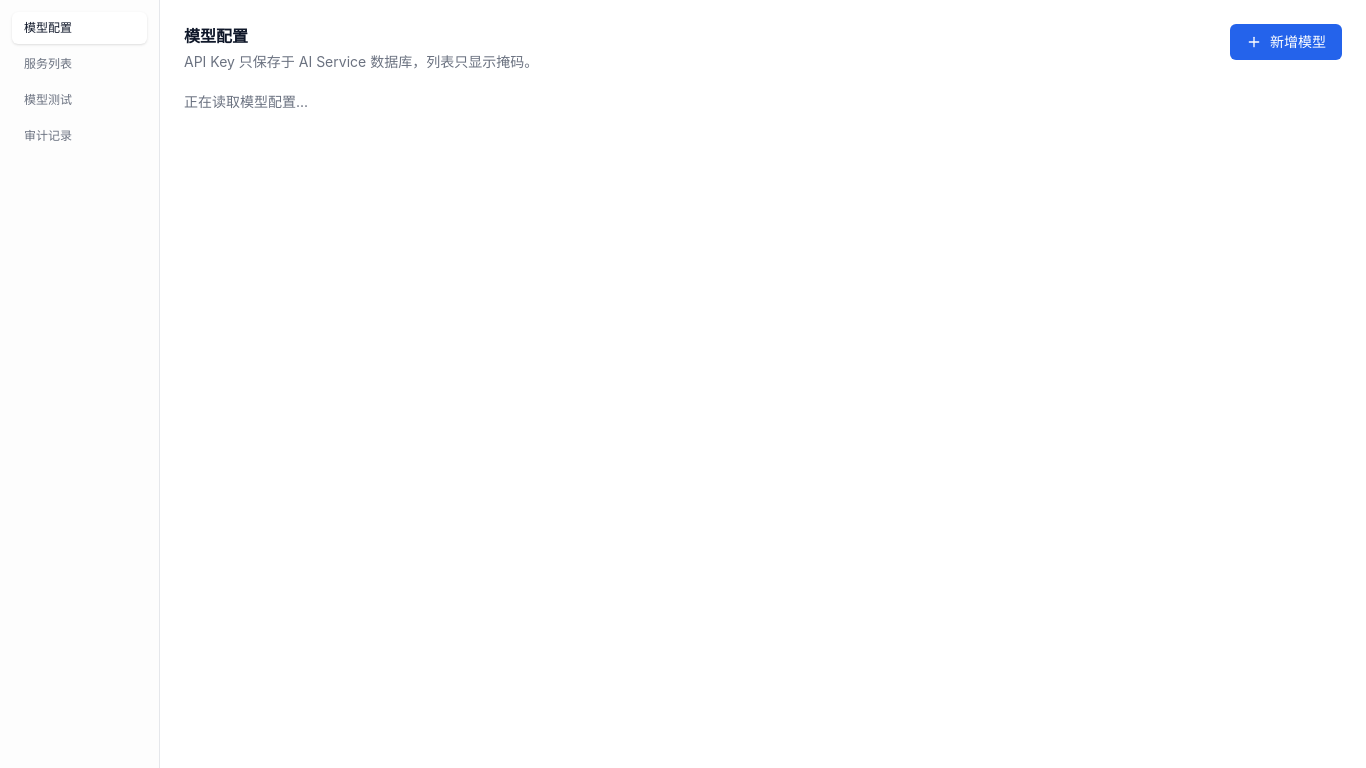
AI Service 内置应用 › 模型名称使用一个可输入下拉框，Base URL 默认留空
Click the button "新增模型": [1286, 42] box [1230,24,1342,60]
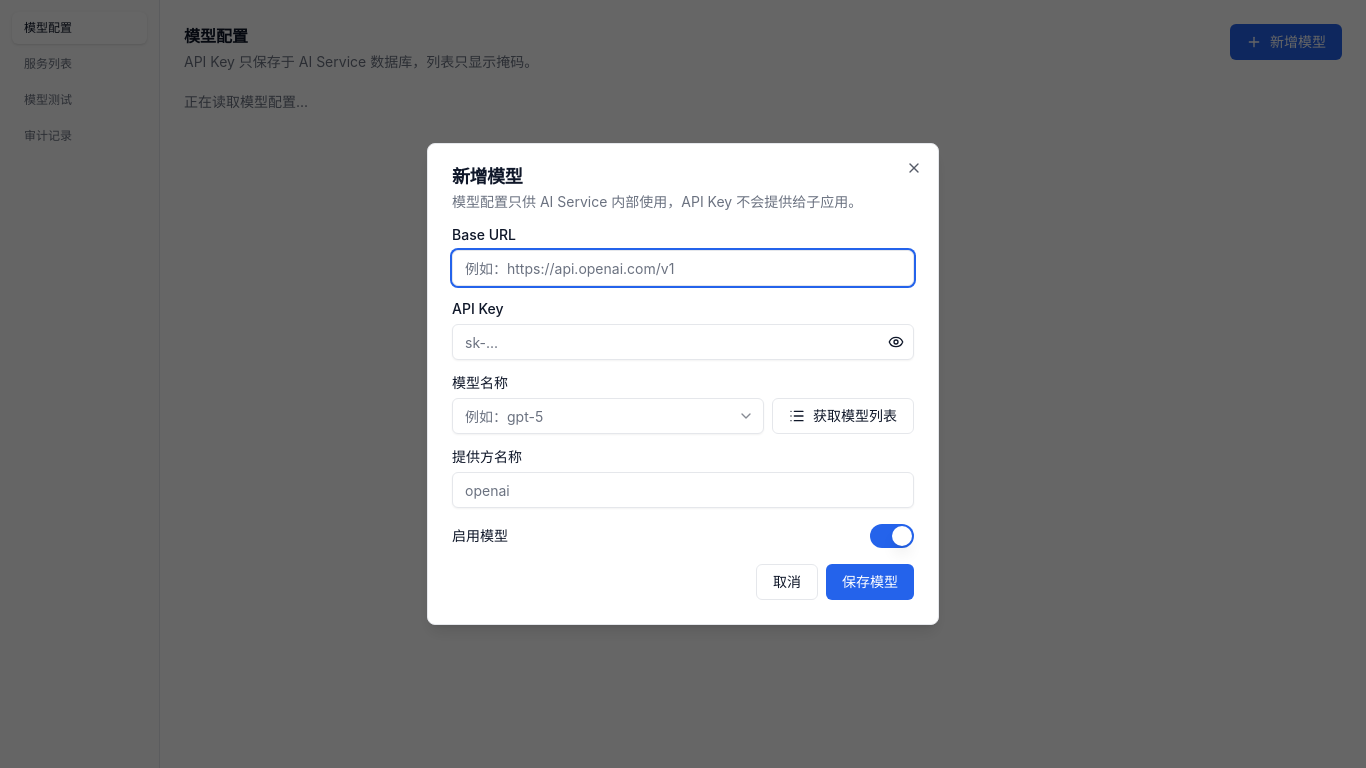
Now the field labelled "Base URL" is empty
In the field labelled "Base URL": [683, 268] box [452,250,914,286], type "https://api.openrouter.ai/v1"
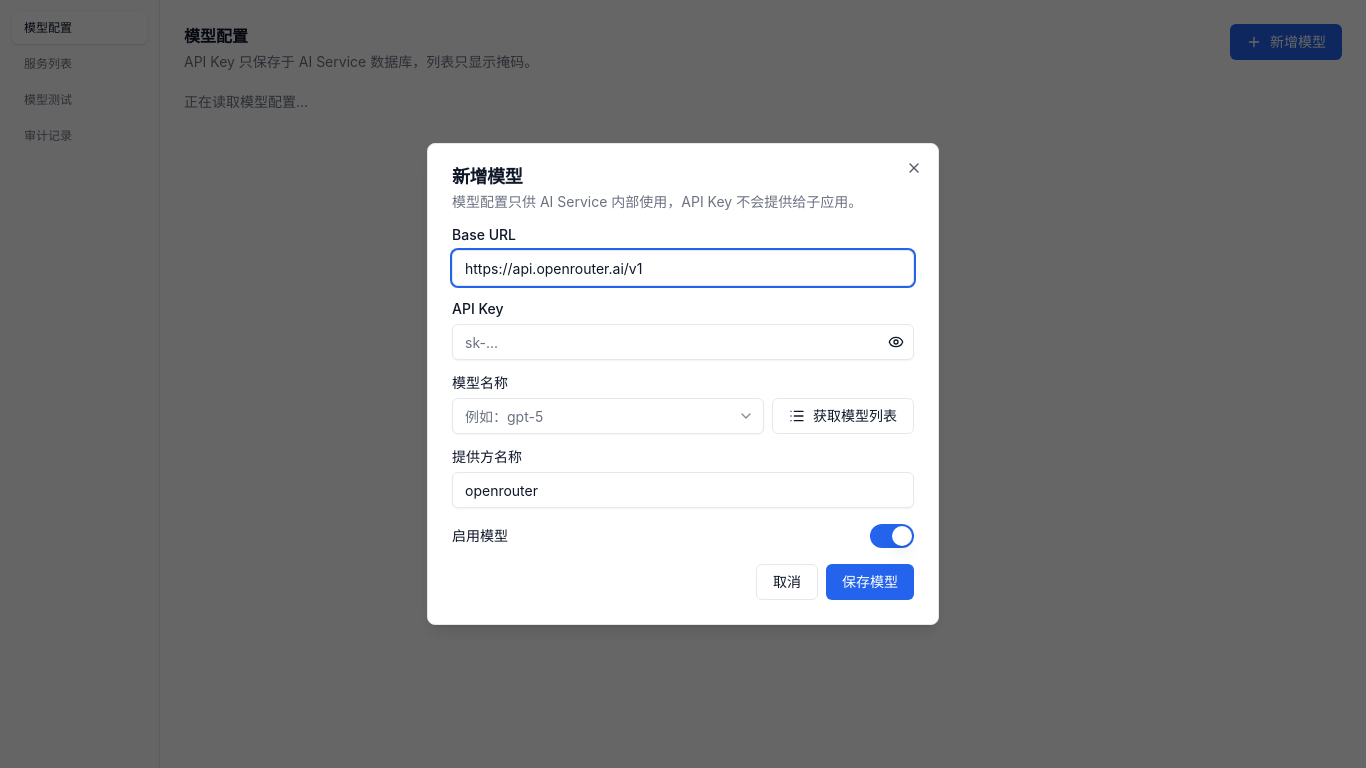
Now the field labelled "提供方名称" holds "openrouter"
Replace the text in the field labelled "提供方名称" with "团队代理": [683, 490] box [452,472,914,508]
Replace the text in the field labelled "Base URL" with "https://api.example.com/v1": [683, 268] box [452,250,914,286]
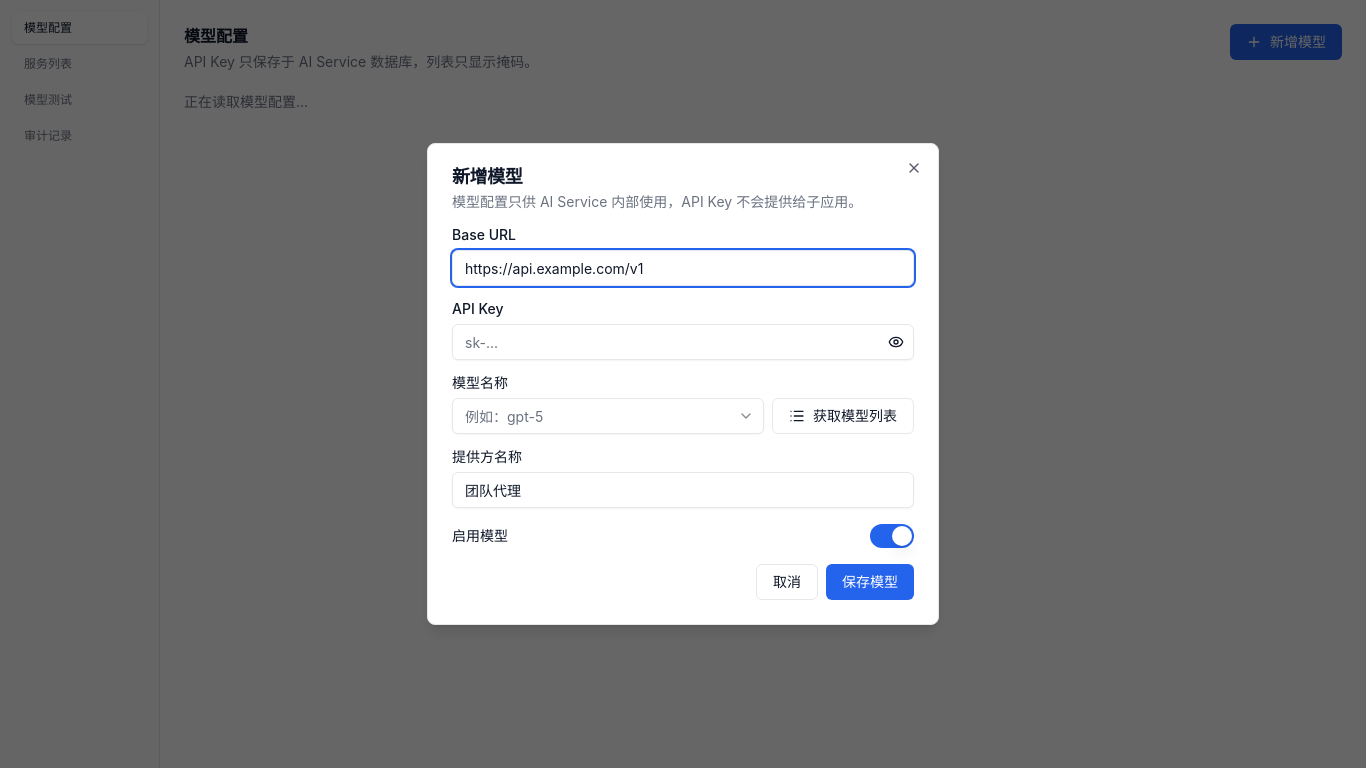
In the password field labelled "API Key": [683, 342] box [452,324,914,360], type "sk-test"
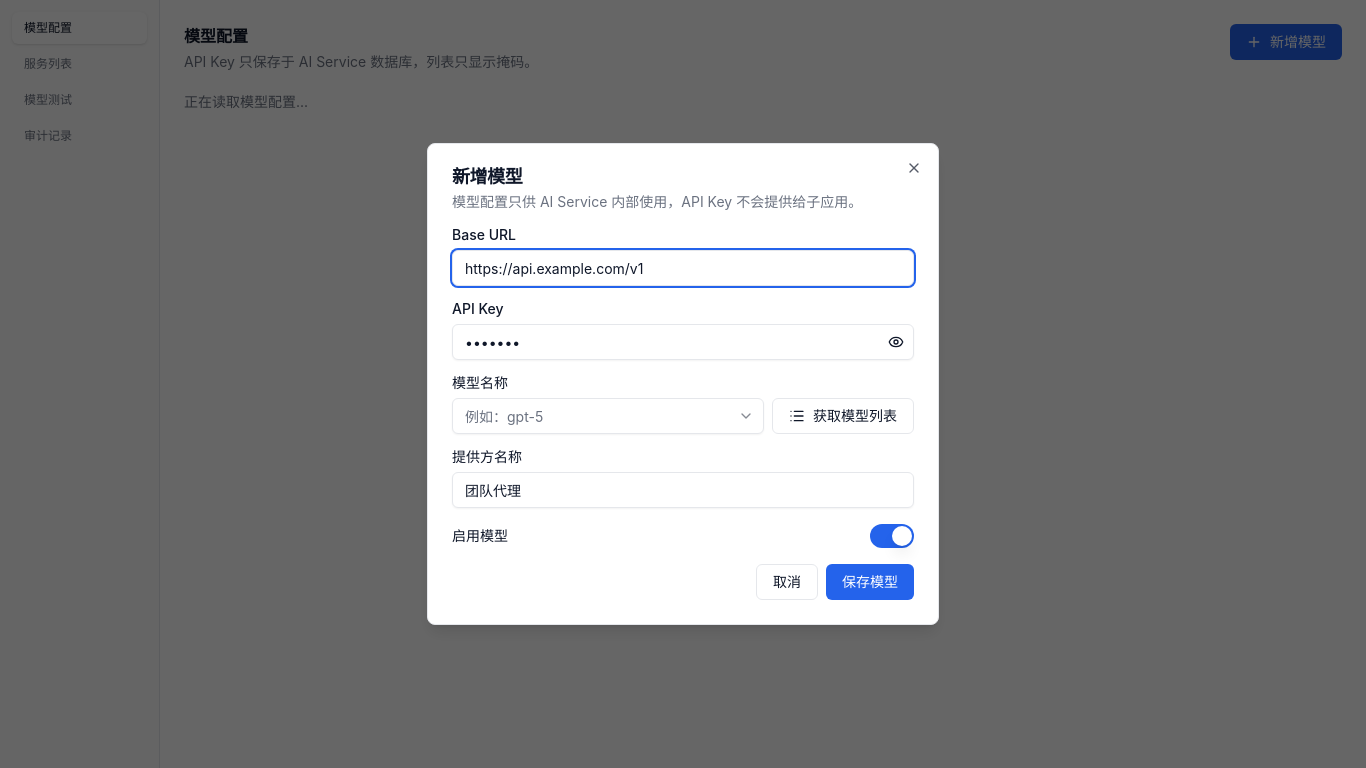
Click the button "获取模型列表": [843, 416] box [772,398,914,434]
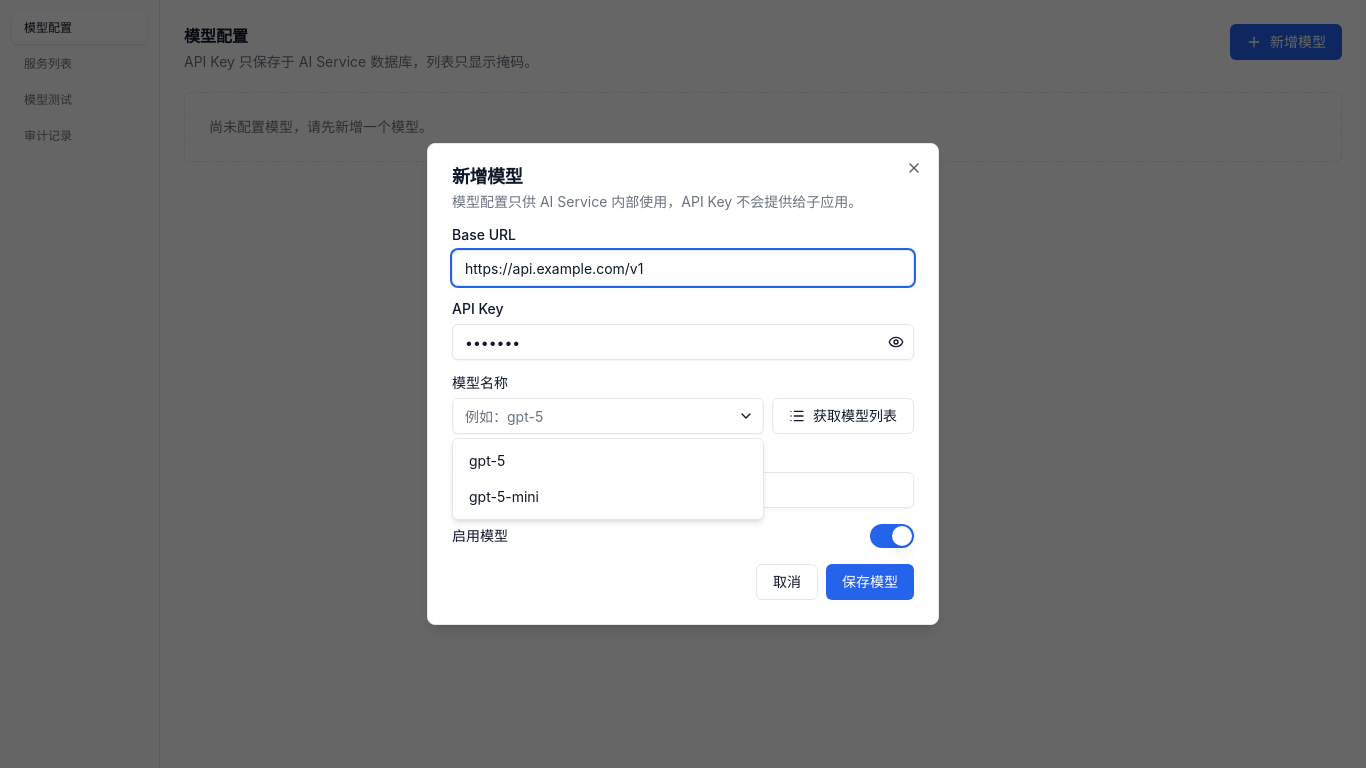
Click the option "gpt-5-mini": [504, 496] box [457,479,759,515]
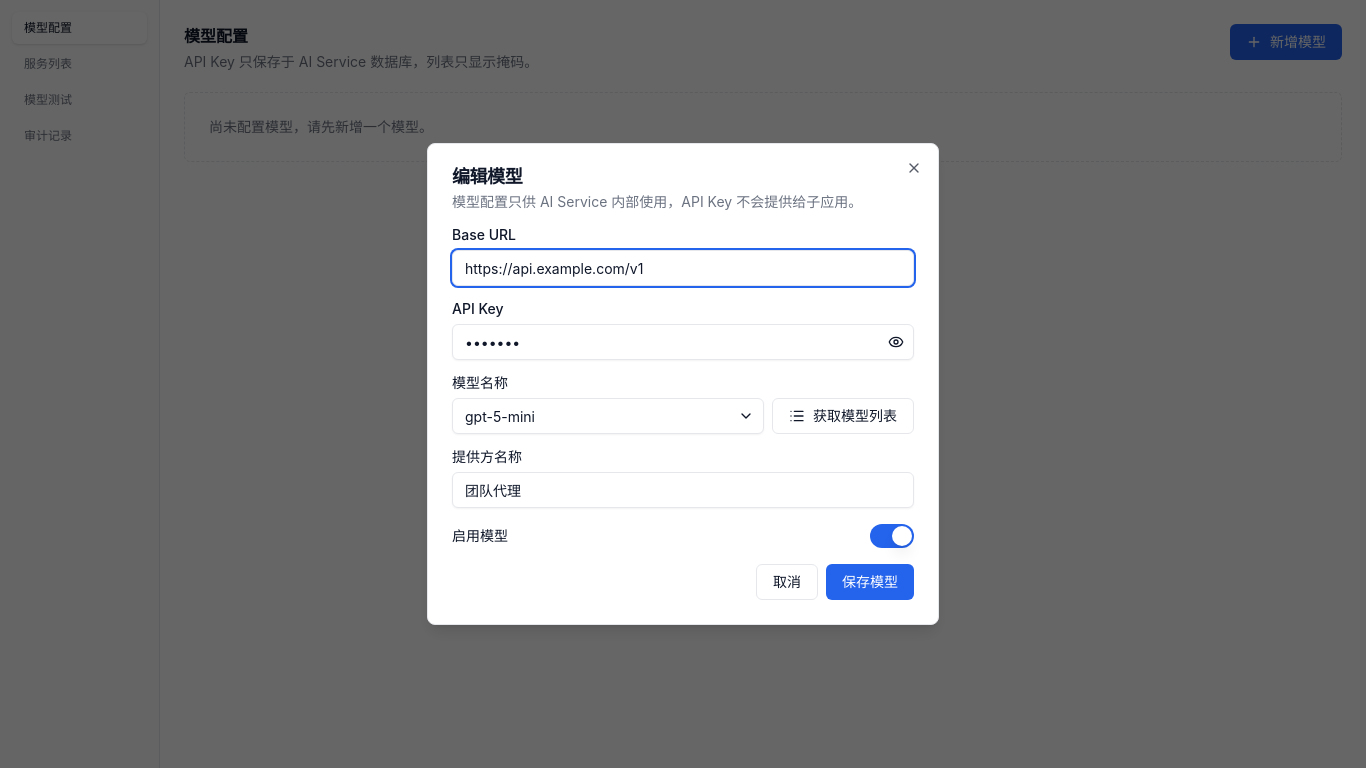
Now the dropdown labelled "模型名称" holds "gpt-5-mini", box [452,398,764,434]
